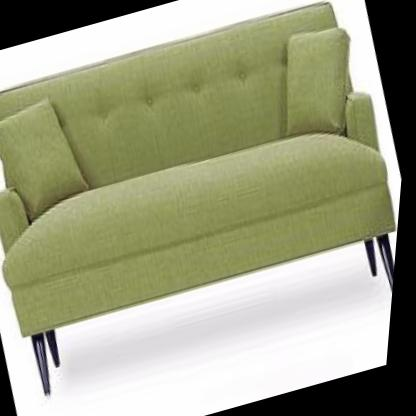Sofa: (0, 0, 416, 402)
